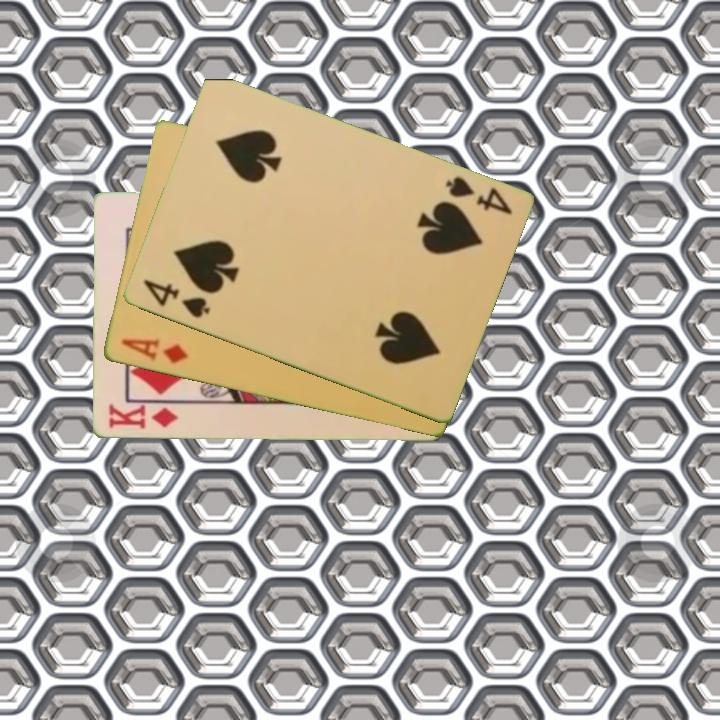4s: (139, 276, 213, 321), (441, 173, 515, 218)
Ad: (117, 335, 191, 367)
Kd: (105, 401, 180, 432)
